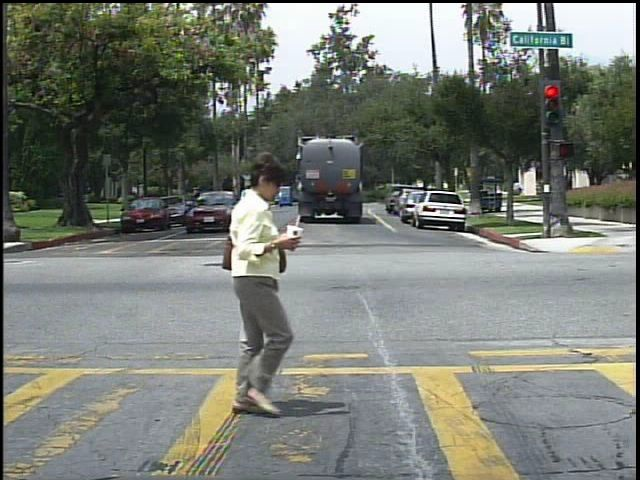person: (193, 151, 313, 423), (515, 181, 529, 200)
